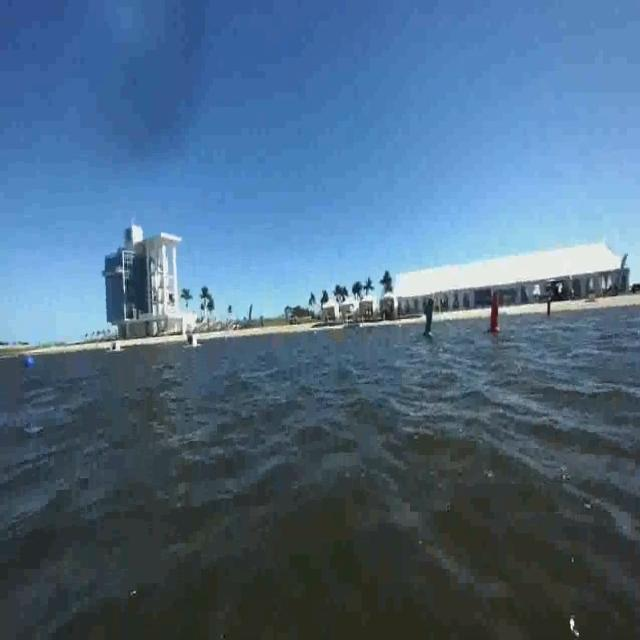blue-buoy: (26, 349, 36, 367)
green-column-buoy: (420, 290, 442, 346)
red-column-buoy: (484, 284, 505, 342)
